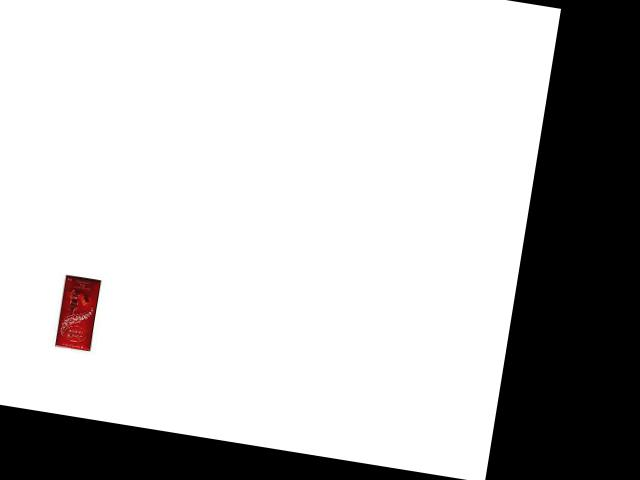chocolate: (52, 269, 103, 353)
